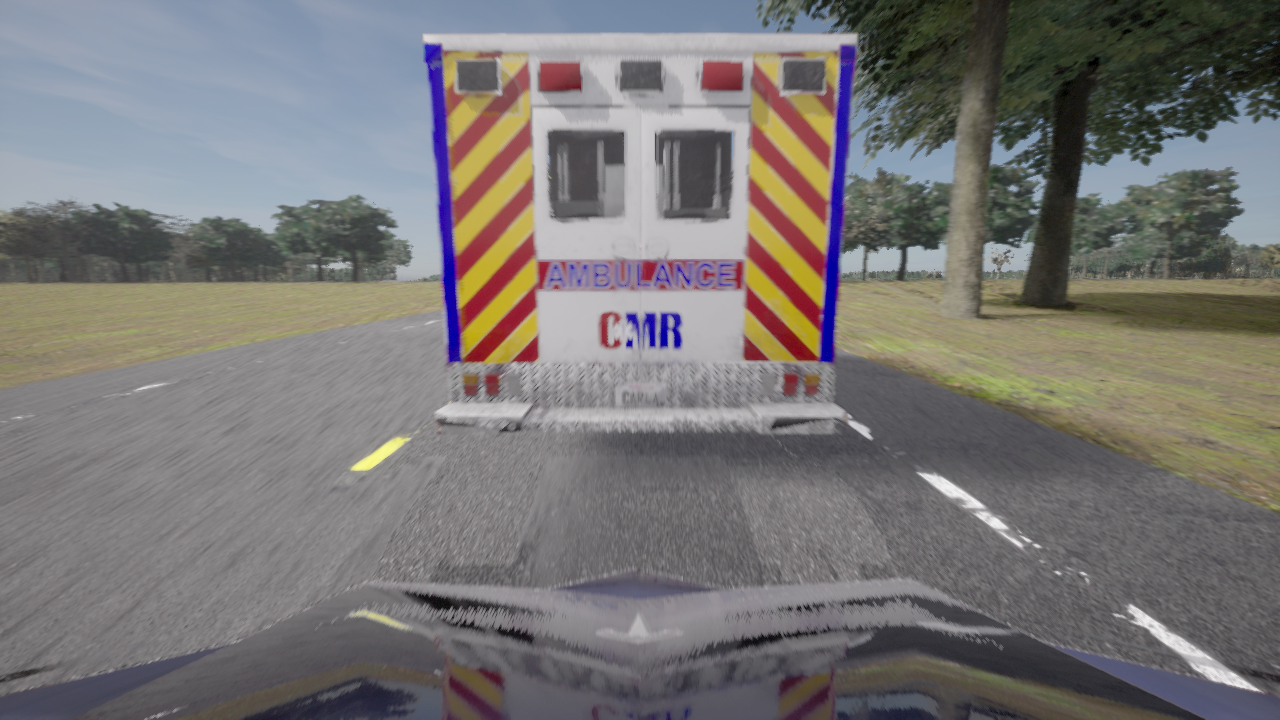cyclist: (0, 569, 1279, 719), (423, 34, 857, 434)
